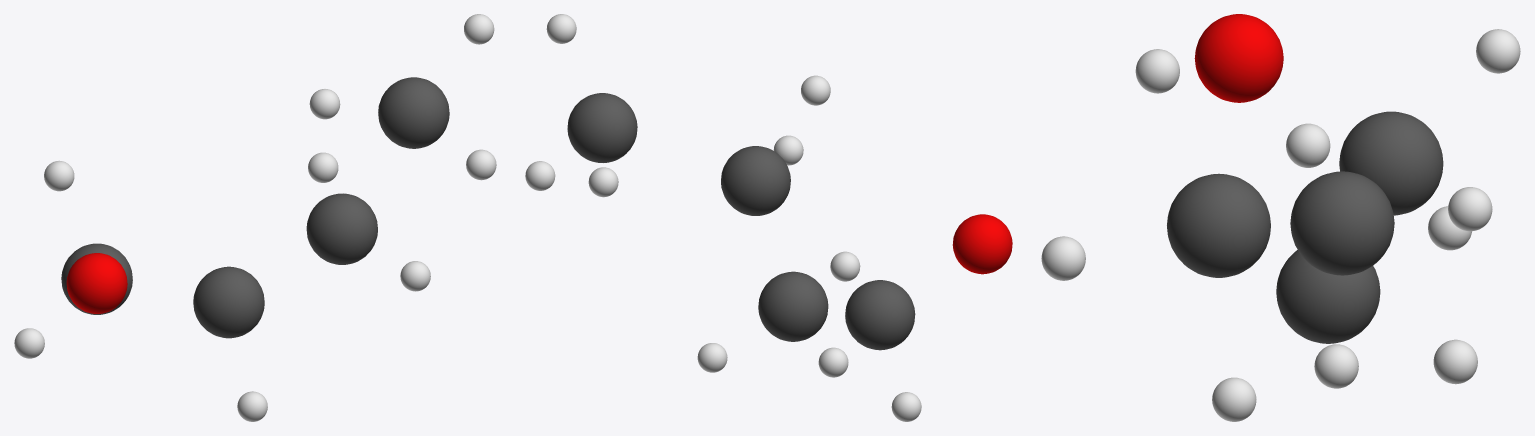
Rendered from HAT_Butoxy.fbx.
3 renders of one model, left to right at view 1: azimuth 30°, elevation 25°; view 2: azimuth 150°, elevation 25°; view 3: azimuth 270°, elevation 25°, orthographic. The views are drawn at different scales.
Visible parts, largest first — view 1: C03, C01, C02, O13, C04, H12, H11, H09, H06, H07, H10, H14 (+1 smaller); view 2: C01, C03, C04, C02, O13, H09, H05, H08, H10, H12, H07, H14 (+2 smaller); view 3: C01, C02, C04, C03, O13, H06, H12, H14, H05, H07, H09, H10 (+2 smaller).
Boxes of the visible parts, left/top/right/bottom form: C03: left=193, top=266, right=264, bottom=338; C01: left=378, top=77, right=449, bottom=148; C02: left=306, top=193, right=377, bottom=264; O13: left=66, top=253, right=127, bottom=313; C04: left=61, top=243, right=132, bottom=314; H12: left=466, top=149, right=496, bottom=180; H11: left=14, top=328, right=44, bottom=358; H09: left=237, top=391, right=267, bottom=421; H06: left=400, top=261, right=430, bottom=291; H07: left=308, top=152, right=338, bottom=182; H10: left=44, top=160, right=74, bottom=191; H14: left=464, top=14, right=494, bottom=44; C01: left=567, top=93, right=637, bottom=162; C03: left=758, top=271, right=828, bottom=341; C04: left=845, top=280, right=915, bottom=350; C02: left=721, top=146, right=790, bottom=215; O13: left=952, top=214, right=1012, bottom=274; H09: left=818, top=347, right=848, bottom=377; H05: left=588, top=167, right=618, bottom=197; H08: left=697, top=343, right=727, bottom=372; H10: left=830, top=251, right=860, bottom=281; H12: left=525, top=161, right=555, bottom=190; H07: left=801, top=75, right=830, bottom=105; H14: left=546, top=14, right=576, bottom=43; C01: left=1290, top=171, right=1394, bottom=275; C02: left=1167, top=173, right=1270, bottom=277; C04: left=1339, top=111, right=1443, bottom=215; C03: left=1276, top=250, right=1380, bottom=343; O13: left=1194, top=14, right=1283, bottom=102; H06: left=1041, top=236, right=1085, bottom=280; H12: left=1314, top=344, right=1358, bottom=388; H14: left=1286, top=123, right=1330, bottom=167; H05: left=1448, top=187, right=1492, bottom=231; H07: left=1135, top=49, right=1179, bottom=93; H09: left=1212, top=377, right=1256, bottom=421; H10: left=1476, top=29, right=1520, bottom=73.
Bounding box in the file's own units: 553 × 375 × 345.
